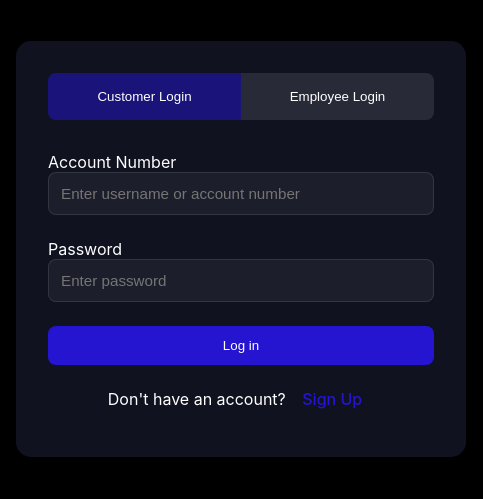
it: Login Component › shows validation errors when form is empty
The width and height of the screenshot is (483, 499).
Click the button "Log in": (241, 346) x1=48 y1=326 x2=434 y2=365
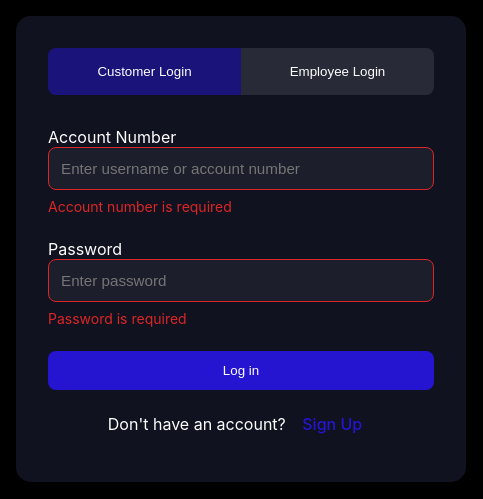
Expected: the text "Account number is required" is shown, x1=48 y1=198 x2=232 y2=215
Expected: the text "Password is required" is shown, x1=48 y1=310 x2=187 y2=327
